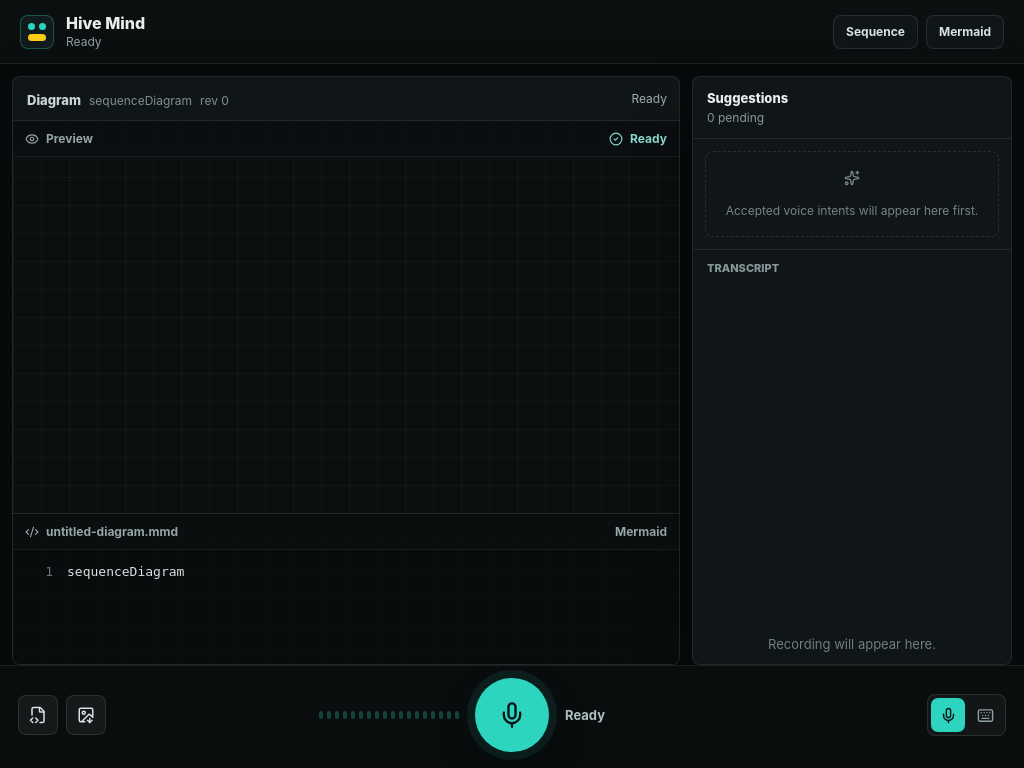
Test: Hive Mind app › applies a suggestion only after Accept
Click the button named "start recording": point(512, 715) [475,678,549,752]
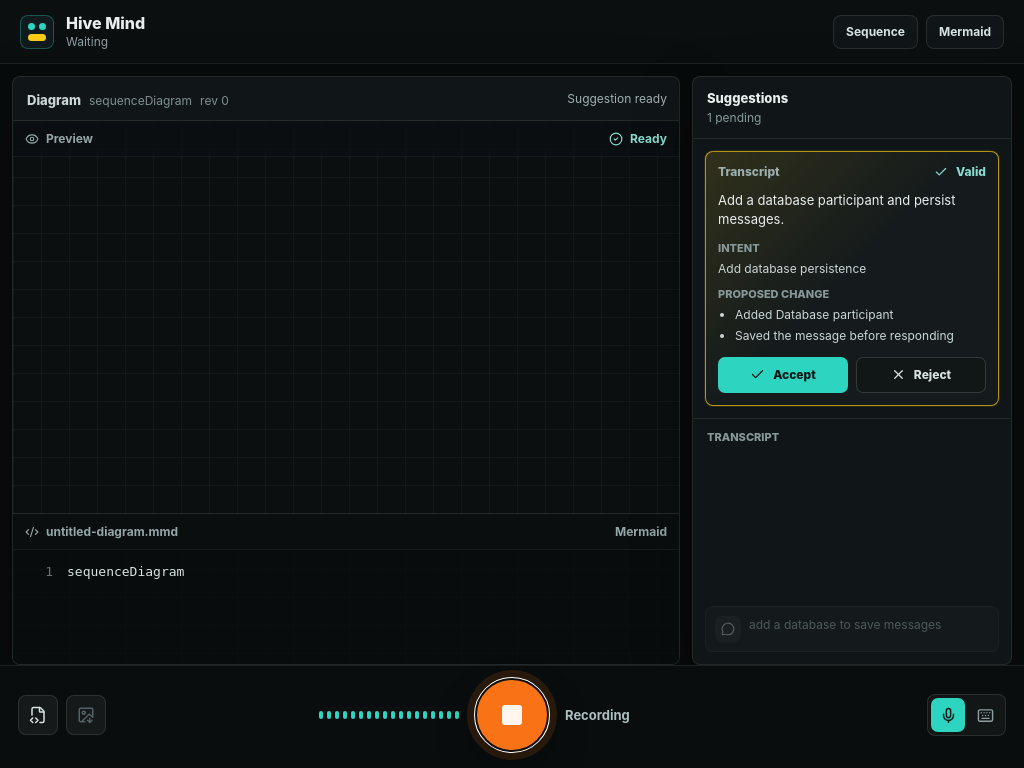
Check: the text "Add database persistence" is shown, box [718,261,866,276]
Click the button "Accept": point(783, 375) [718,357,848,393]
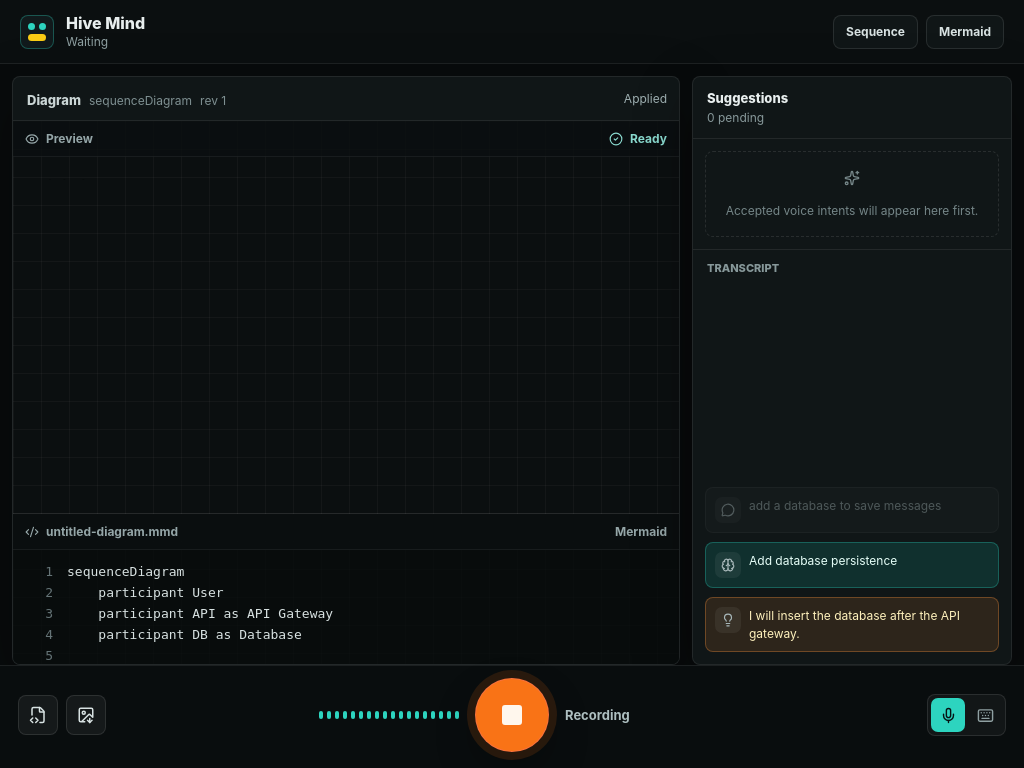
Check: the element named "Current Mermaid source" shows "Database", box [67,627,302,642]
Check: the list item "Added Database participant" is gone
